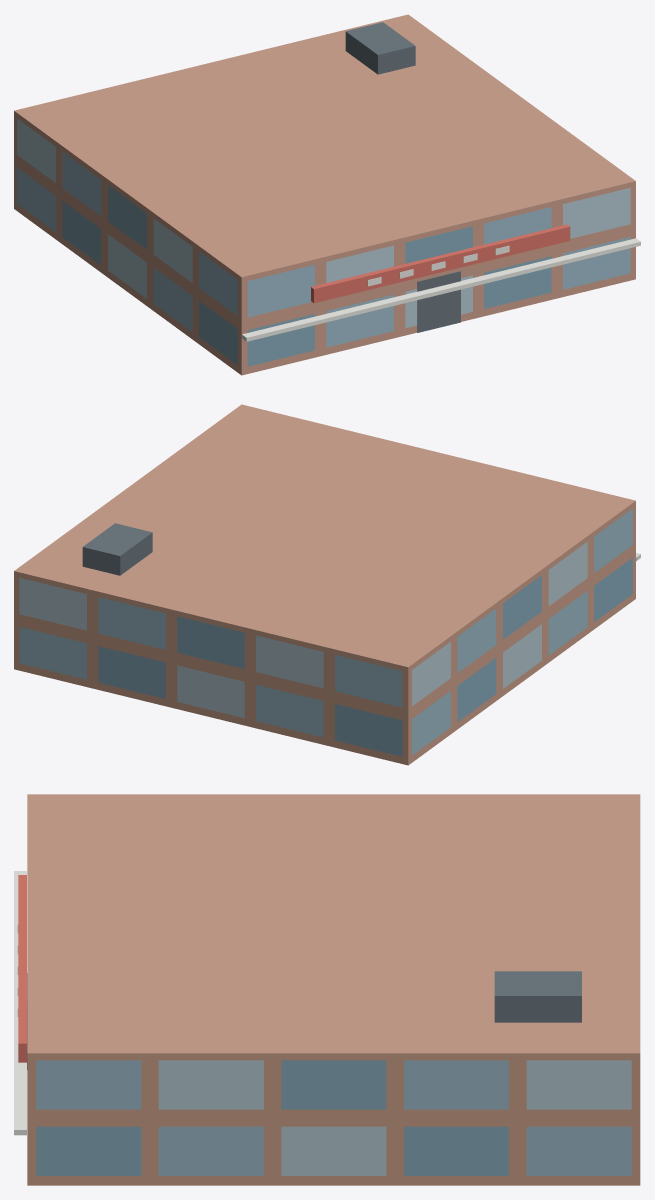
The model's file is korea-building-0-compact.glb.
3 views of the same model, one above another, from view 1: azimuth 30°, elevation 25°; view 2: azimuth 150°, elevation 25°; view 3: azimuth 270°, elevation 25° (orthographic). The views are drawn at different scales.
Size of the model in its own units: 10.52 by 3 by 10.74.
